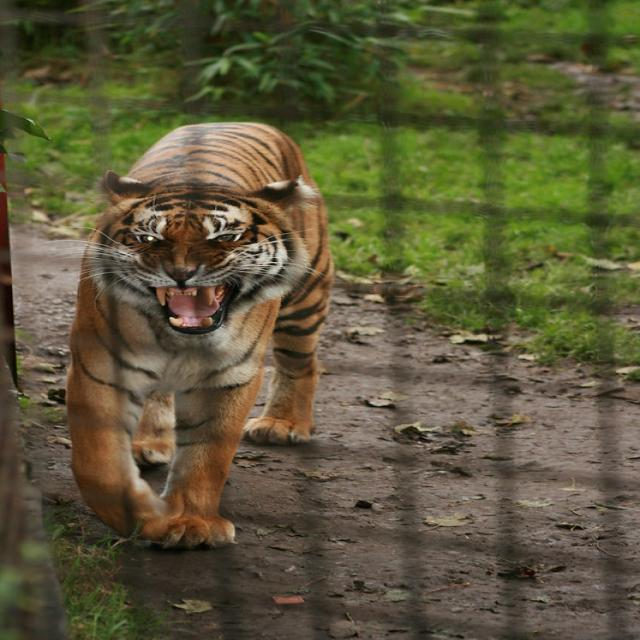Tiger: (61, 120, 335, 549)
